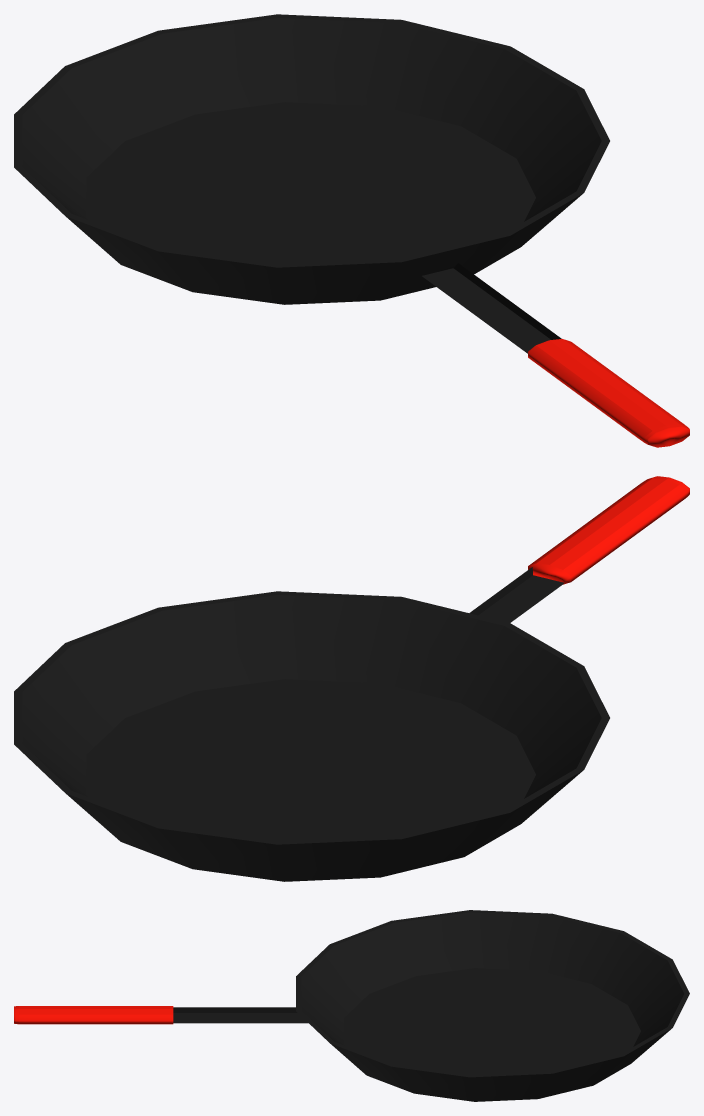
Rendered from pan.fbx.
3 renders of one model, top to bottom at view 1: azimuth 30°, elevation 25°; view 2: azimuth 150°, elevation 25°; view 3: azimuth 270°, elevation 25°, orthographic. The views are drawn at different scales.
Parts seen in each view (by area): view 1: Circle, Circle.002, Circle.001; view 2: Circle, Circle.002, Circle.001; view 3: Circle, Circle.002, Circle.001.
Part boxes in pixels (left/top/right/bottom): Circle: left=14, top=14, right=609, bottom=304; Circle.002: left=528, top=339, right=689, bottom=447; Circle.001: left=422, top=263, right=561, bottom=353; Circle: left=14, top=591, right=609, bottom=881; Circle.002: left=528, top=476, right=689, bottom=584; Circle.001: left=469, top=567, right=564, bottom=622; Circle: left=296, top=910, right=689, bottom=1101; Circle.002: left=14, top=1006, right=173, bottom=1024; Circle.001: left=173, top=1007, right=308, bottom=1023.
Bounding box in the file's own units: 258 × 31.39 × 440.
